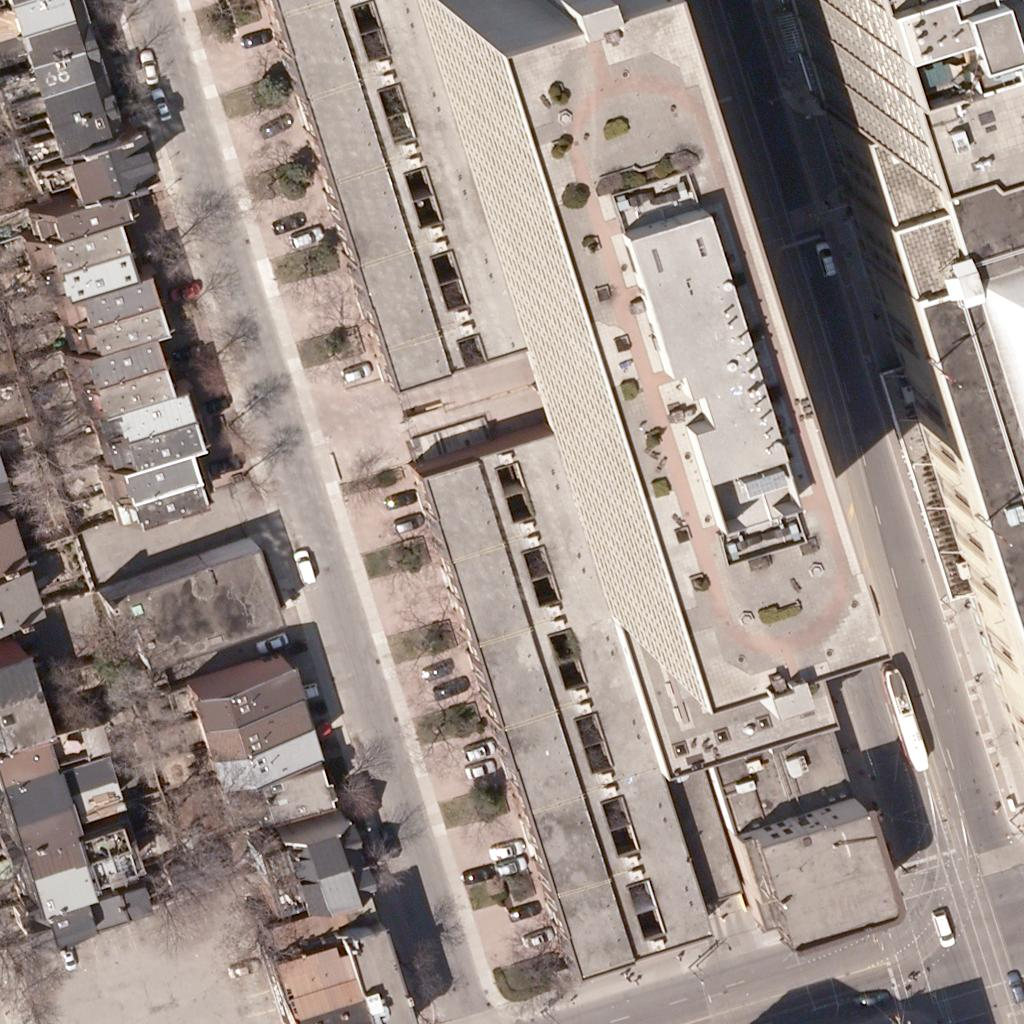car: (240, 21, 274, 55), (131, 52, 165, 86), (143, 89, 177, 123), (256, 110, 290, 144), (273, 205, 307, 239), (290, 220, 324, 254), (809, 242, 843, 276), (168, 273, 202, 307), (172, 334, 206, 368), (338, 356, 372, 390), (197, 388, 231, 422), (207, 449, 241, 483), (382, 482, 416, 516), (389, 506, 423, 540), (286, 548, 320, 582), (257, 625, 291, 659), (421, 651, 455, 685), (432, 670, 466, 704), (292, 674, 326, 708), (462, 735, 496, 769), (463, 752, 497, 786), (489, 832, 523, 866), (494, 850, 528, 884), (461, 858, 495, 892), (511, 893, 545, 927), (925, 909, 959, 943), (522, 921, 556, 955), (51, 940, 85, 974), (227, 952, 261, 986), (857, 982, 891, 1016), (1000, 971, 1024, 1005)
